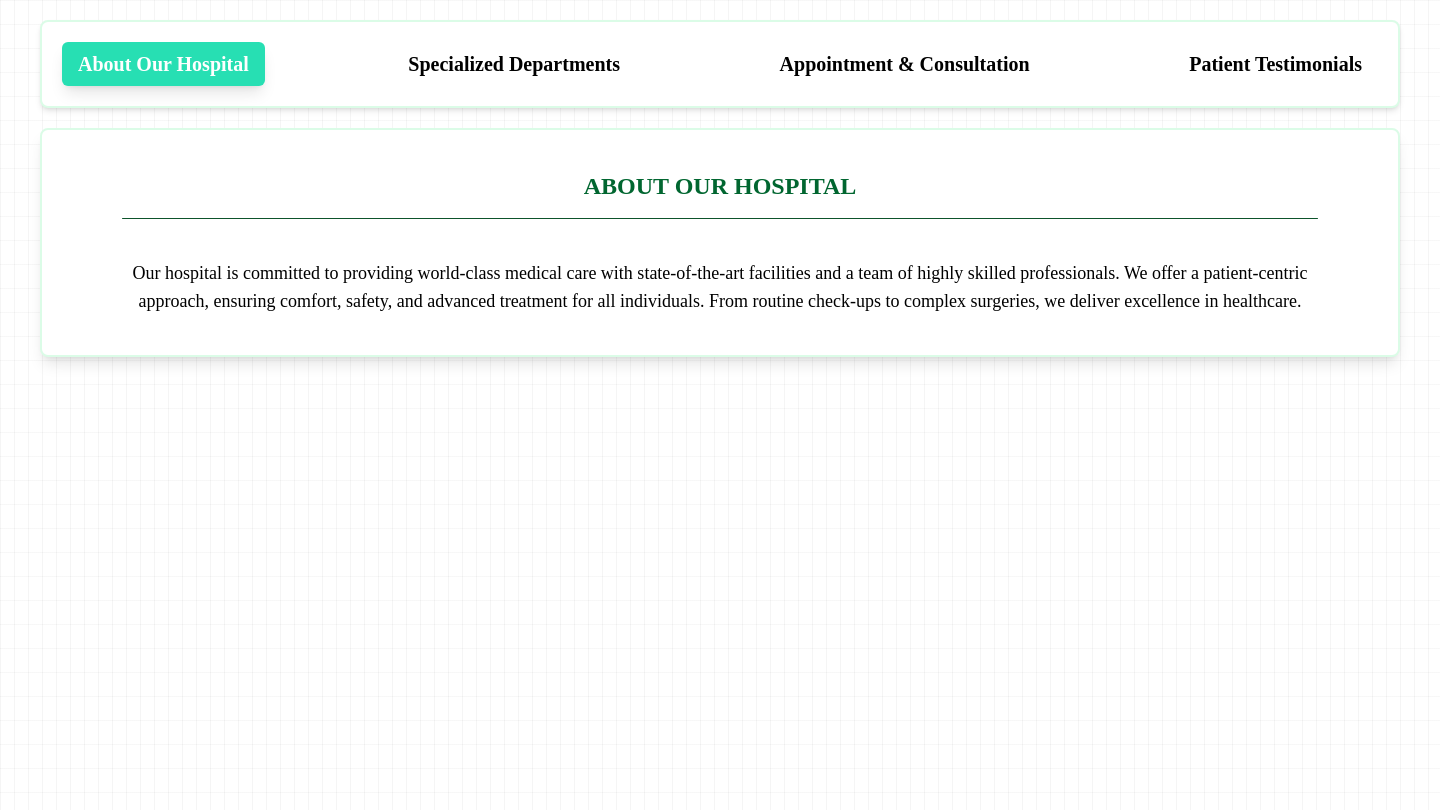
Test case: MultiStepDescription Component › changes content when a different step button is clicked
Step 1. Click the button "Specialized Departments" → (514, 64), box [392,42,636,86]
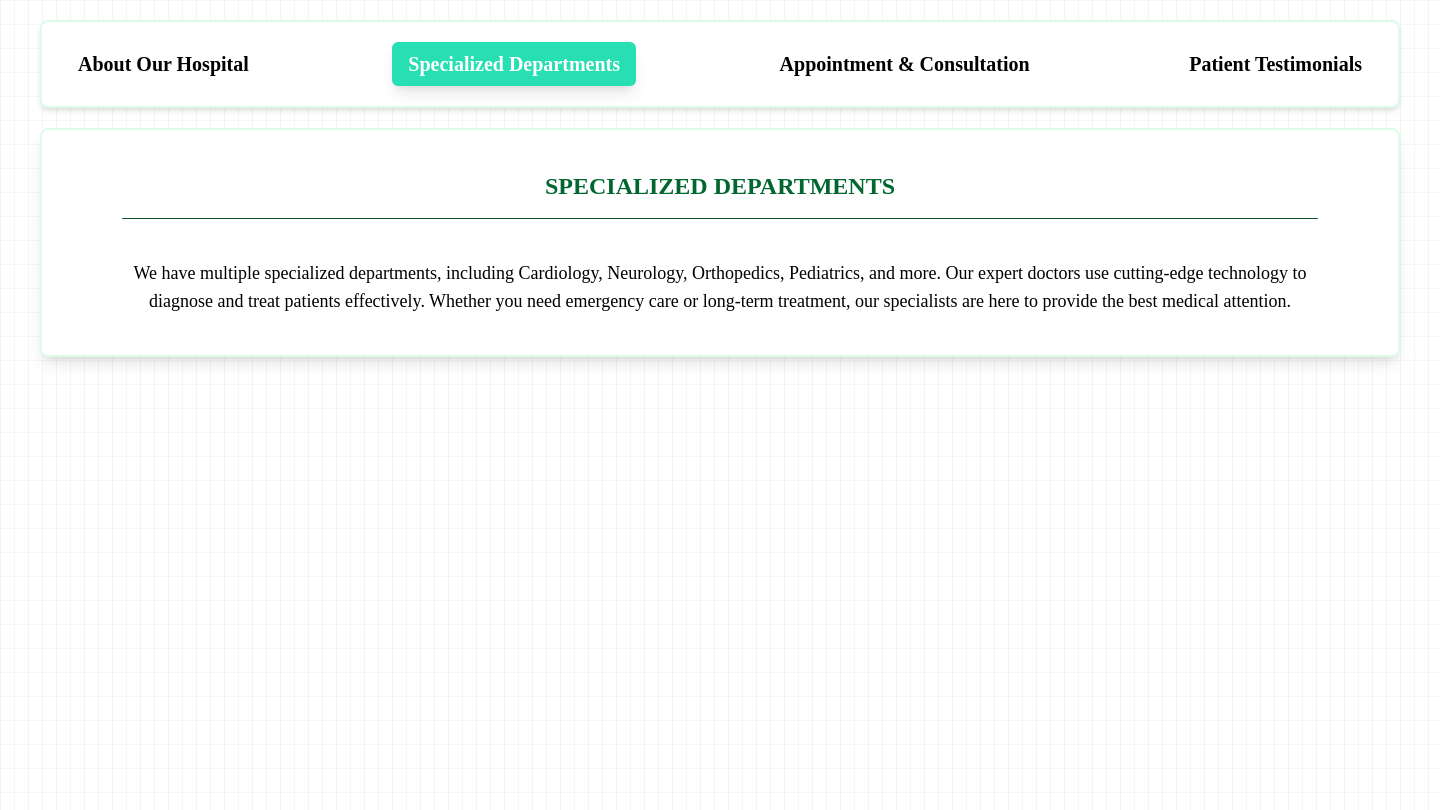
Now the text "We have multiple specialized departments, including Cardiology, Neurology, Orthopedics, Pediatrics, and more. Our expert" is shown, box [134,263,1306,311]
